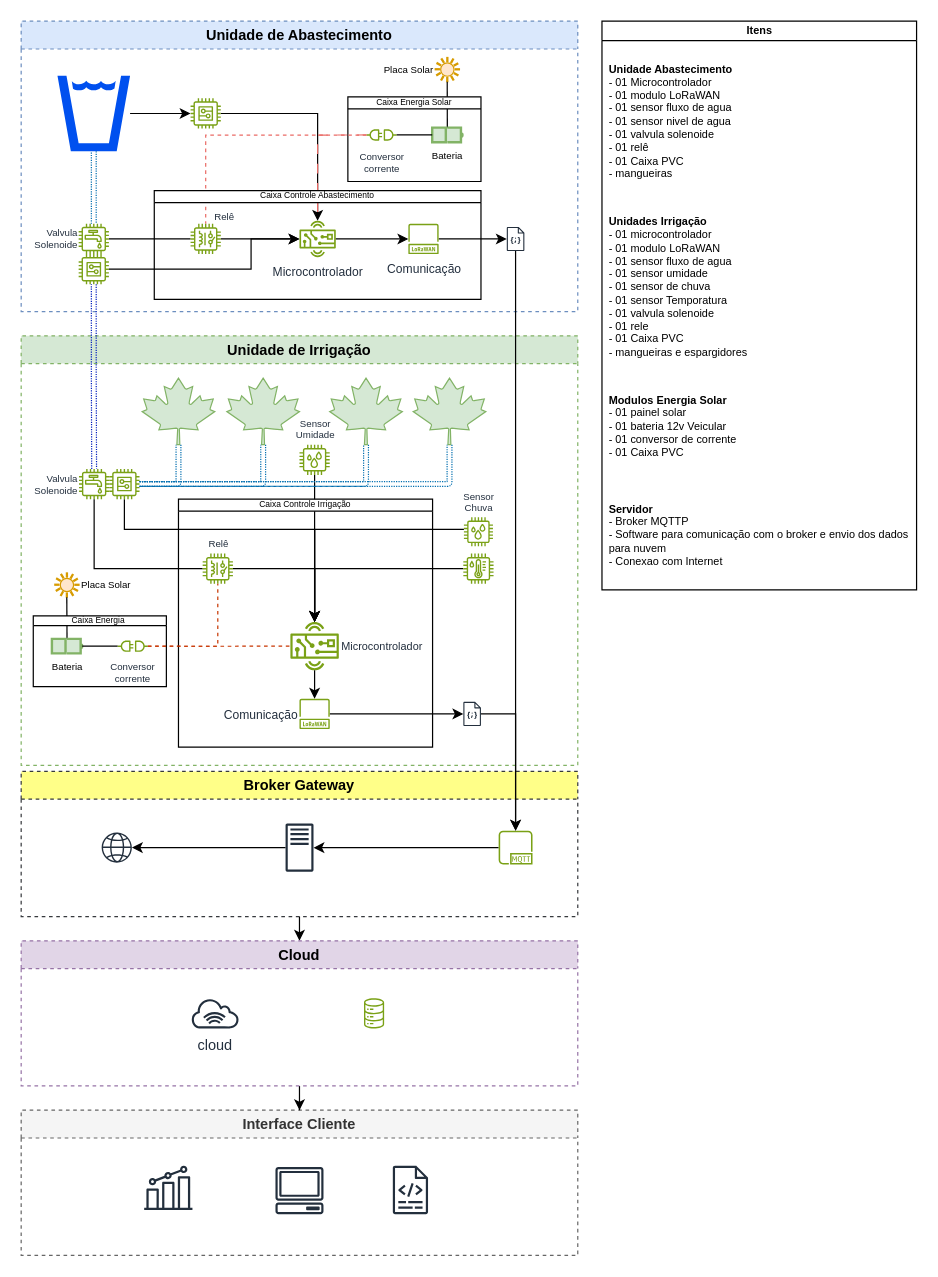
This 938x1277 diagram has some shape labels left out. The centre of each missing label's shape, as x and y in pixels:
"Banco de Dados" belongs at point (373, 1013).
"Broker MQTT" belongs at point (515, 847).
"Fonte de Água" belongs at point (93, 113).
"GateWay" belongs at point (299, 847).
"Internet" belongs at point (116, 847).
"Sens or Fluxo Água" belongs at point (124, 483).
"Sensor Fluxo Água" belongs at point (93, 268).
"Sensor Nível Água" belongs at point (205, 113).
"Sensor Temperatura" belongs at point (478, 568).
